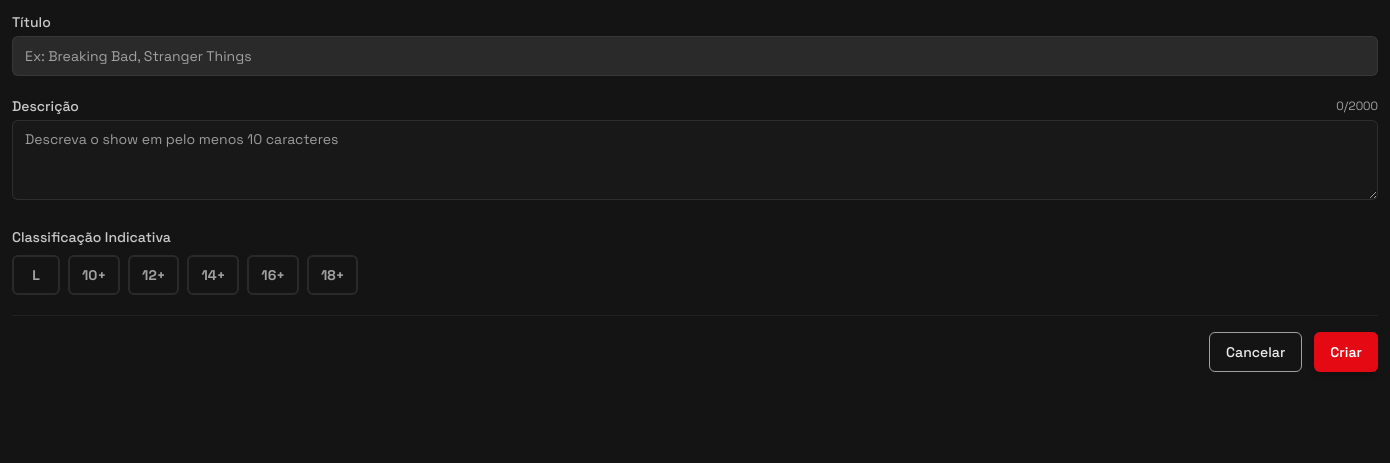
it: TvShowForm › valida titulo curto, descricao curta e idade acima do limite
This screenshot has width=1390, height=463.
Type "A" into the field with placeholder "Ex: Breaking Bad, Stranger Things" at (695, 56), box top-left (12, 36), bottom-right (1378, 76)
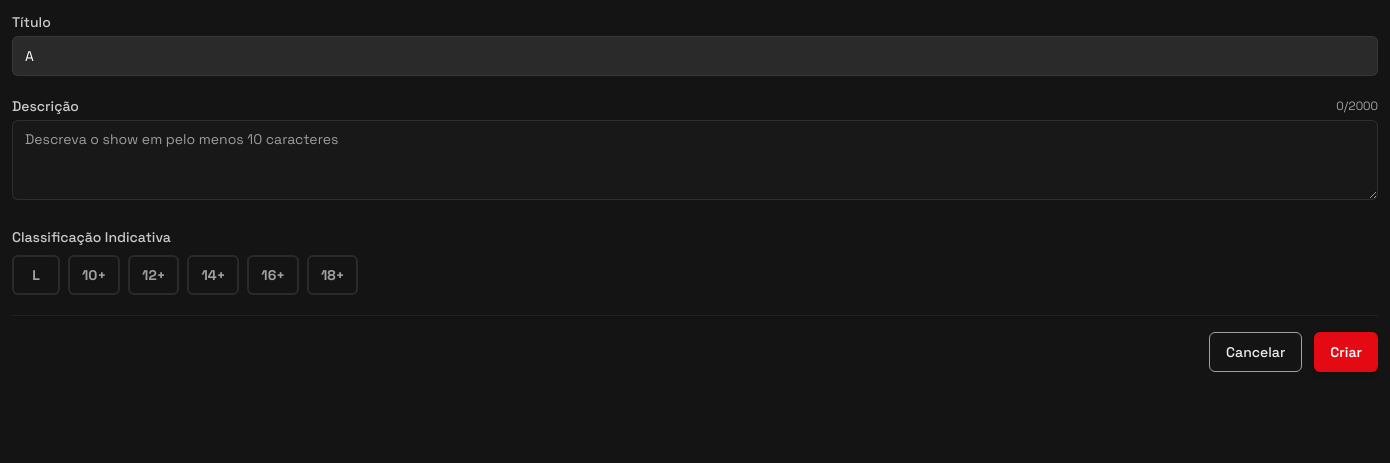
Type "abc" into the text box with placeholder "Descreva o show em pelo menos 10 caracteres" at (695, 160), box top-left (12, 120), bottom-right (1378, 200)
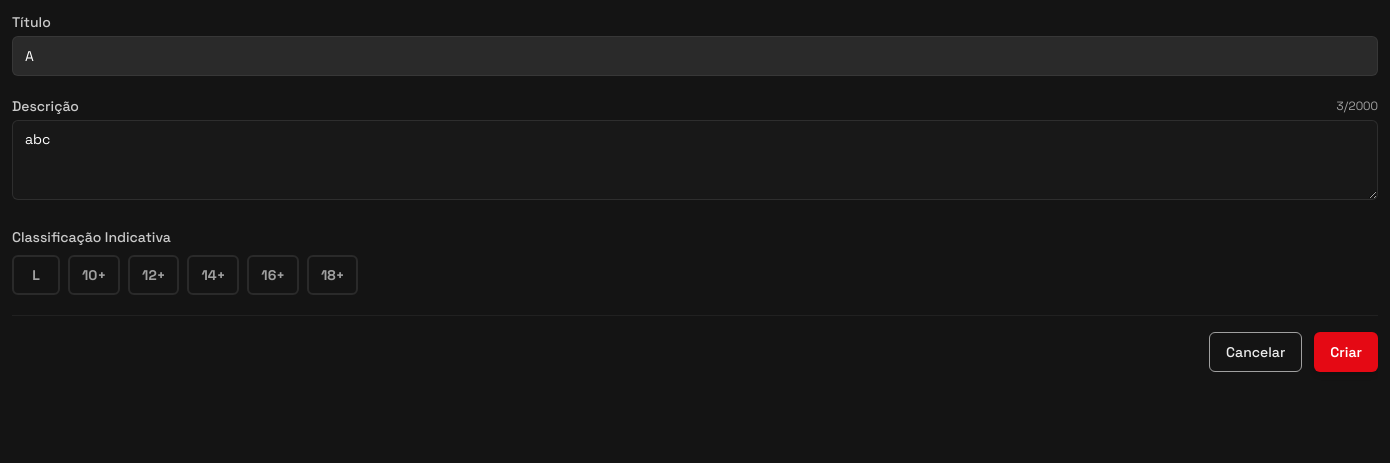
Click the button "Criar" at (1346, 352), box top-left (1314, 332), bottom-right (1378, 372)
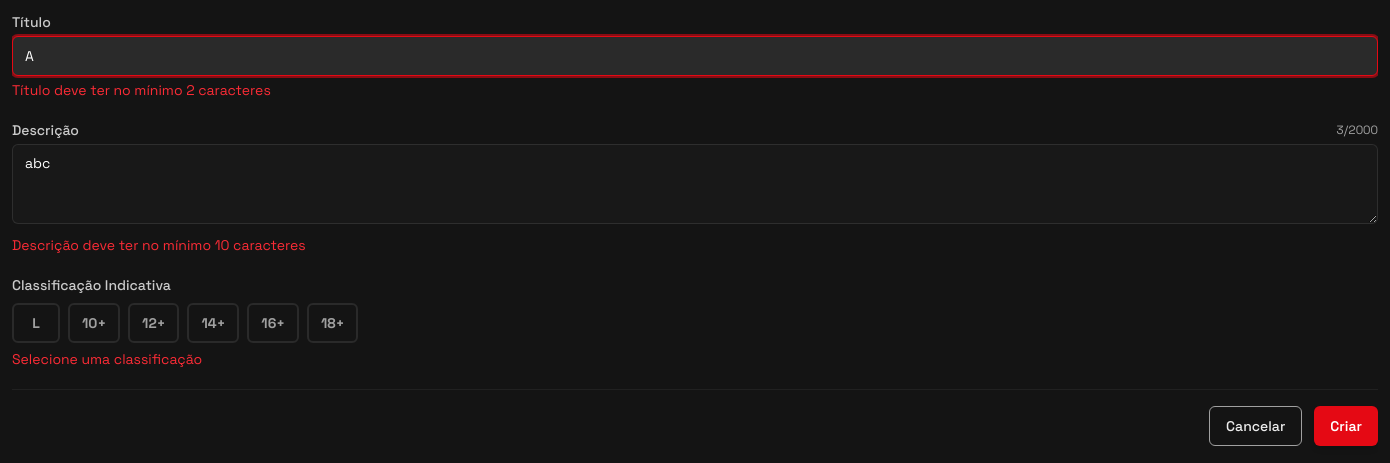
Check: the text "Título deve ter no mínimo 2 caracteres" is shown, box top-left (12, 81), bottom-right (271, 99)
Check: the text "Descrição deve ter no mínimo 10 caracteres" is shown, box top-left (12, 236), bottom-right (306, 254)
Check: the text "Selecione uma classificação" is shown, box top-left (12, 350), bottom-right (202, 368)
